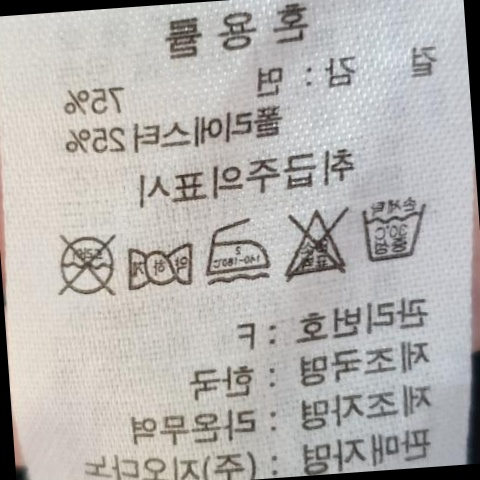DN_dry_clean: (49, 226, 122, 303)
hand_wash: (356, 196, 434, 268)
iron_medium: (201, 215, 271, 283)
non_chlorine_bleach: (272, 201, 353, 286)
wring: (122, 235, 199, 296)
